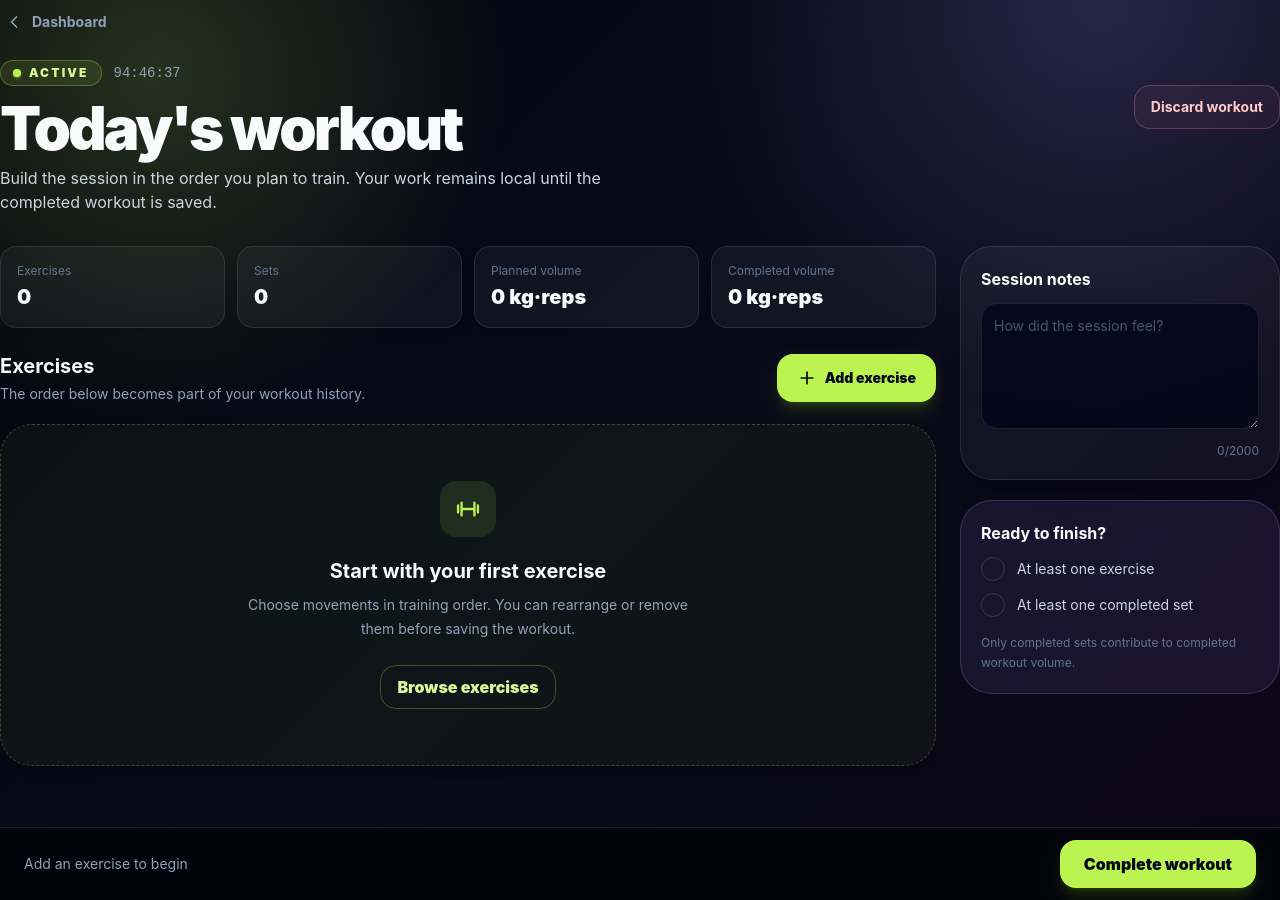
Scenario: ActiveWorkoutScreen › saves the workout and renders the completion summary
This screenshot has width=1280, height=900.
Click the button "Browse exercises" at (468, 687), box [380,665,556,709]
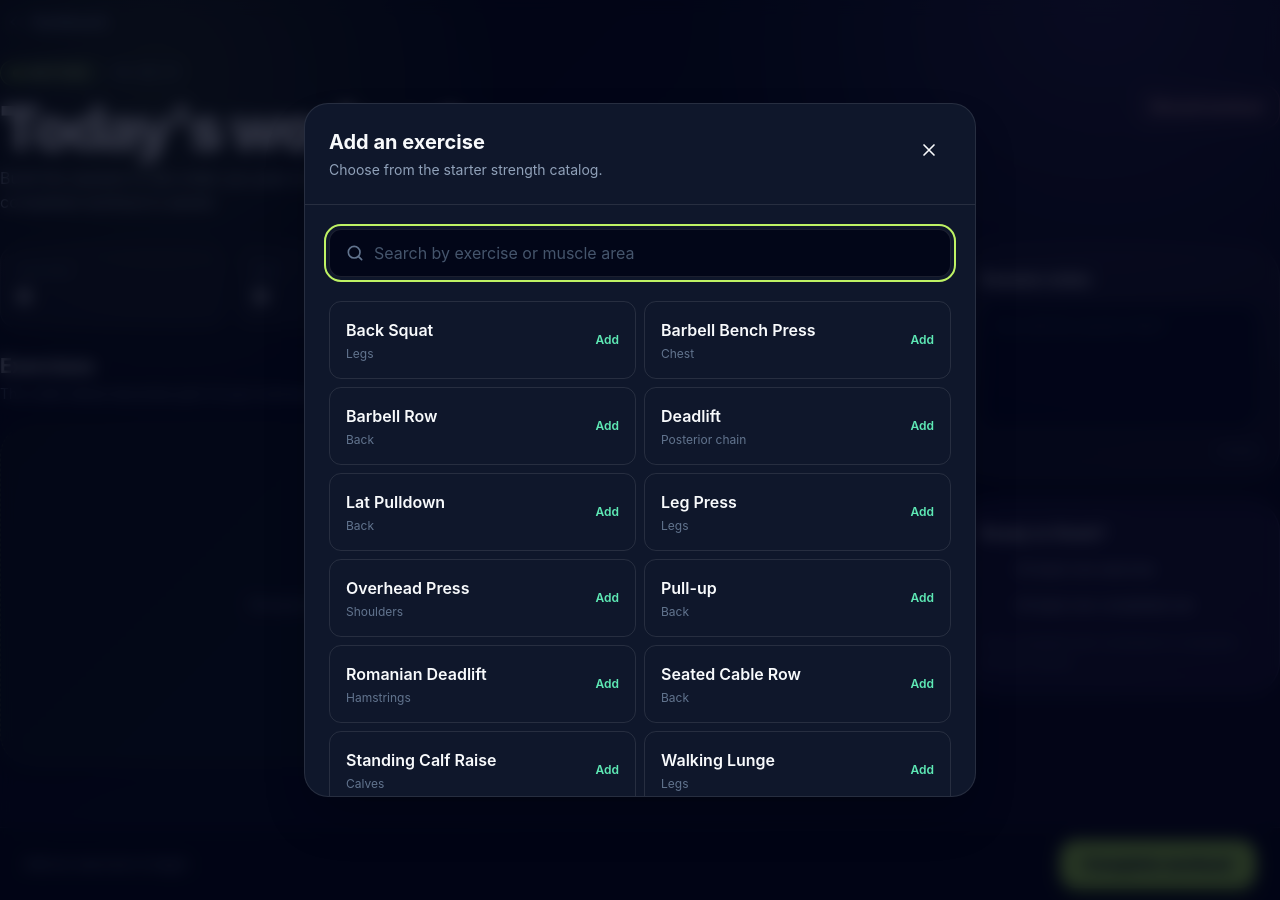
Click the button "Back Squat Legs Add" at (390, 330), box [329,301,636,379]
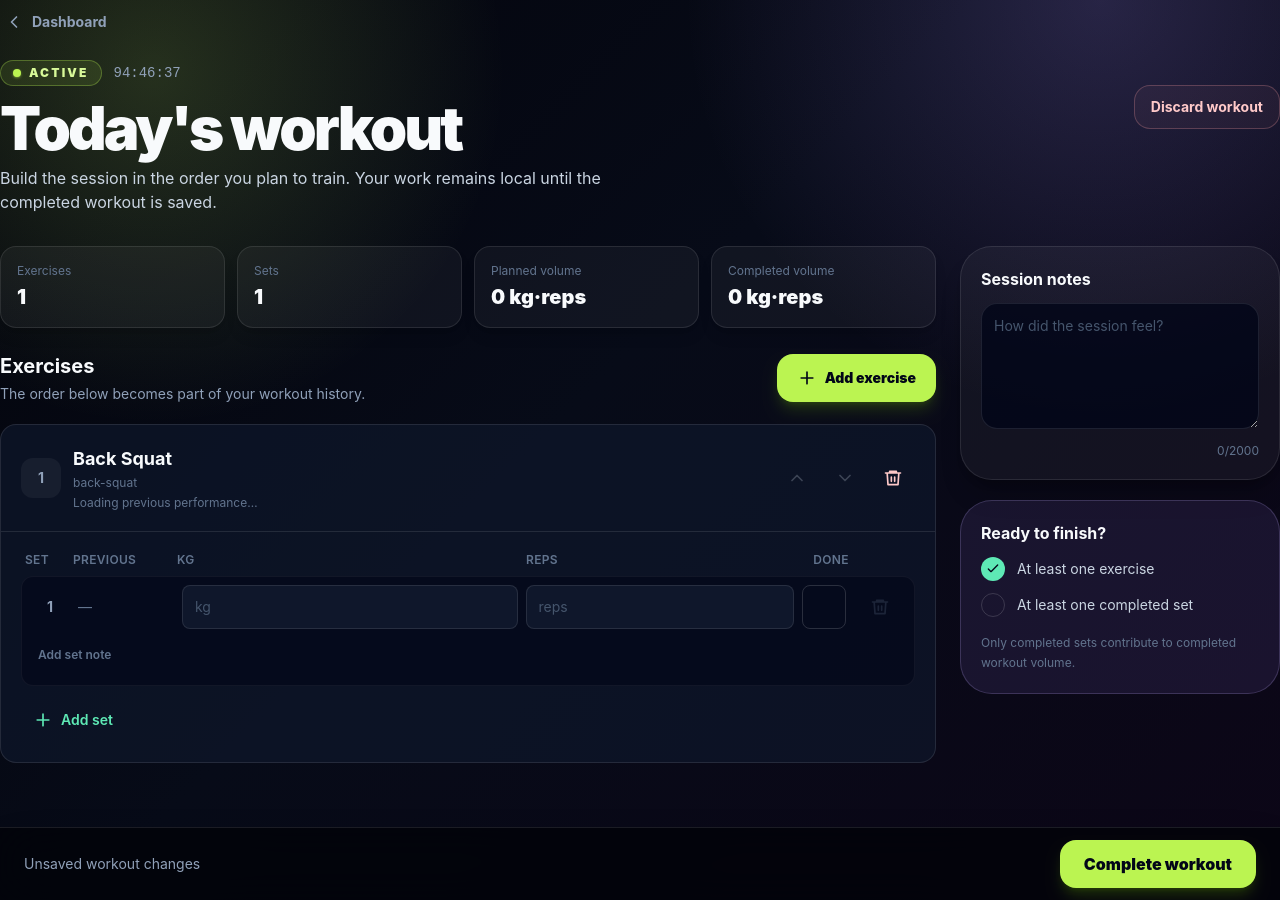
Type "100" into the number field named "back squat set 1 weight in kilograms" at (350, 607), box [182,585,518,629]
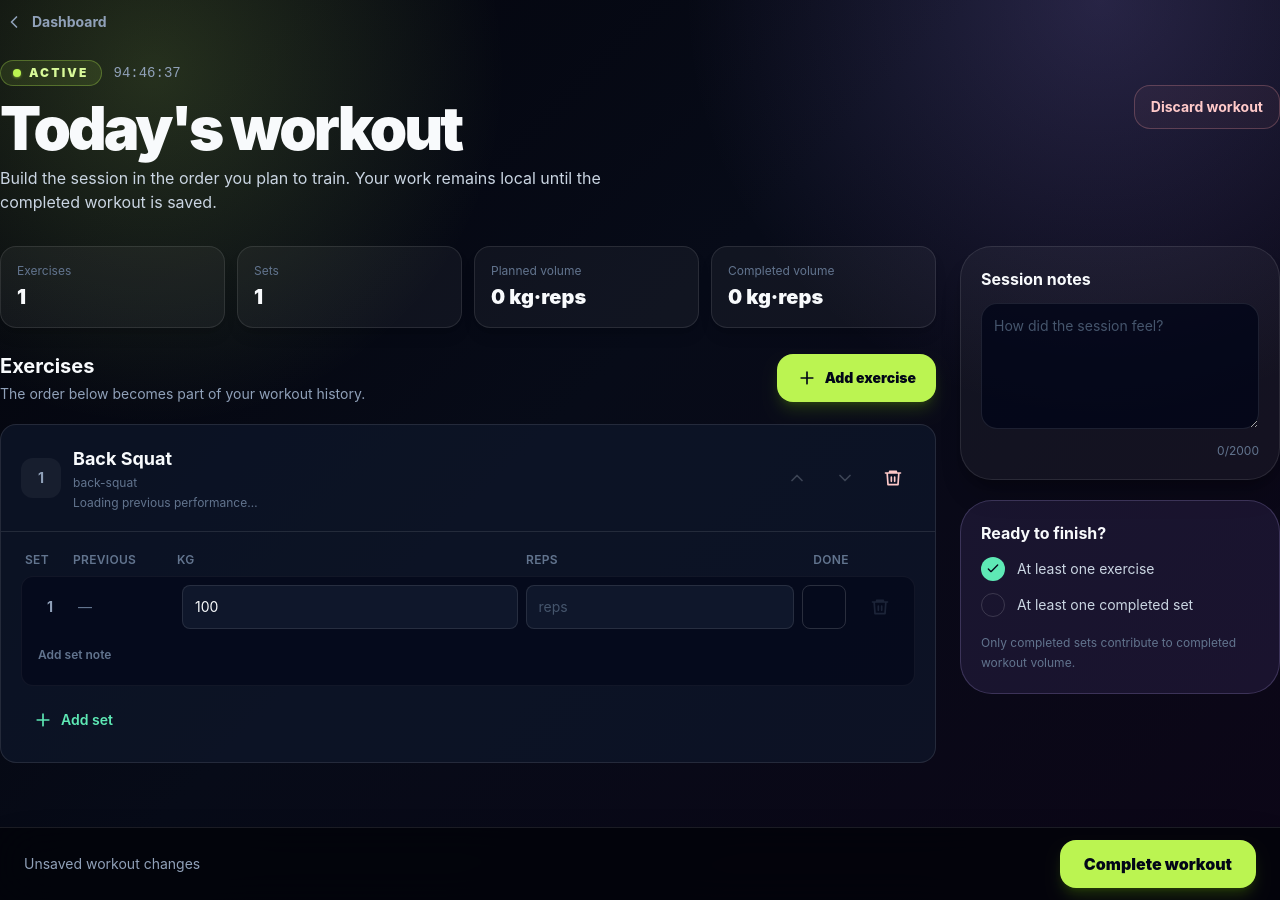
Type "5" into the number field named "back squat set 1 repetitions" at (660, 607), box [526,585,794,629]
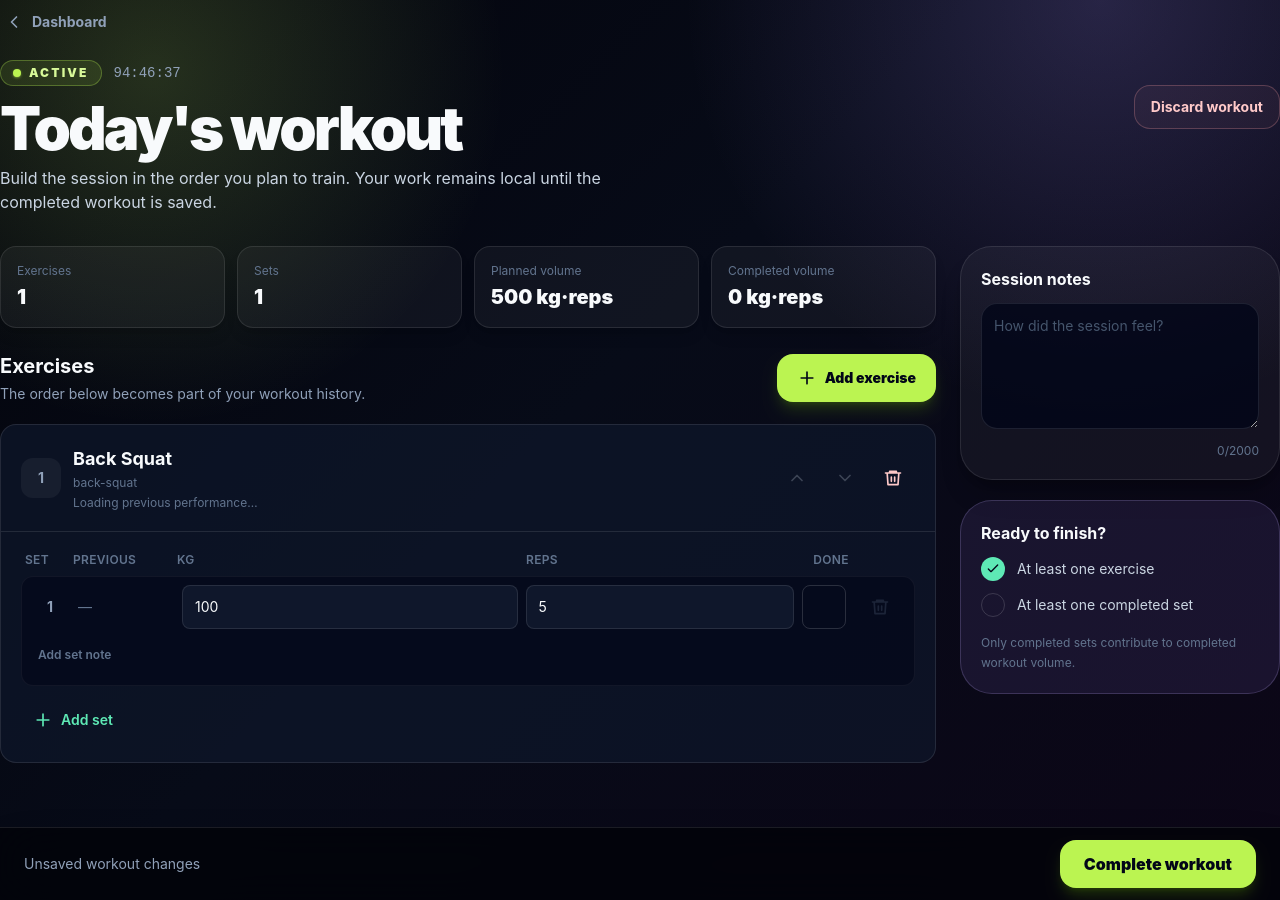
Click the button named "complete back squat set 1" at (824, 607), box [802,585,846,629]
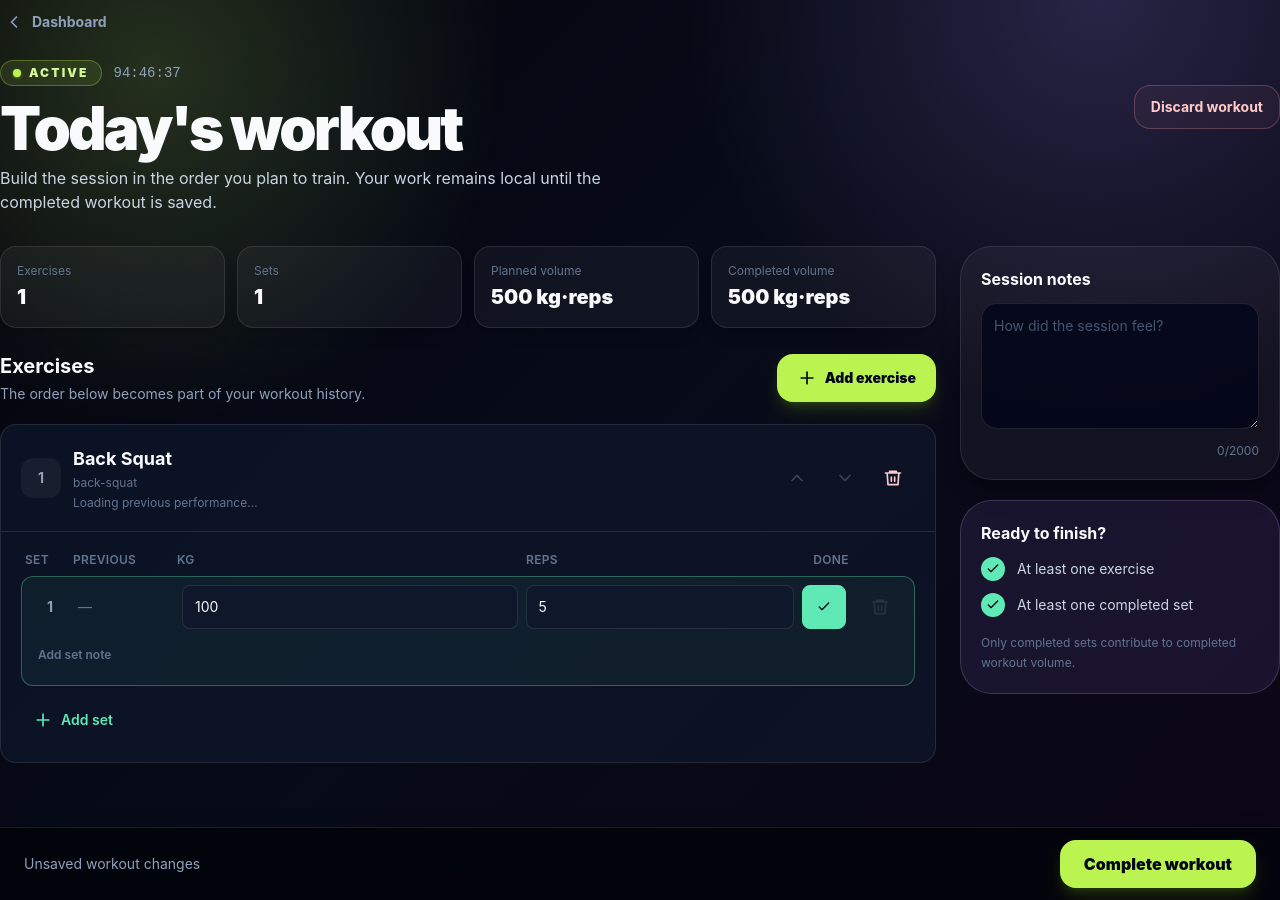
Click the button "Complete workout" at (1158, 864), box [1060,840,1256,888]
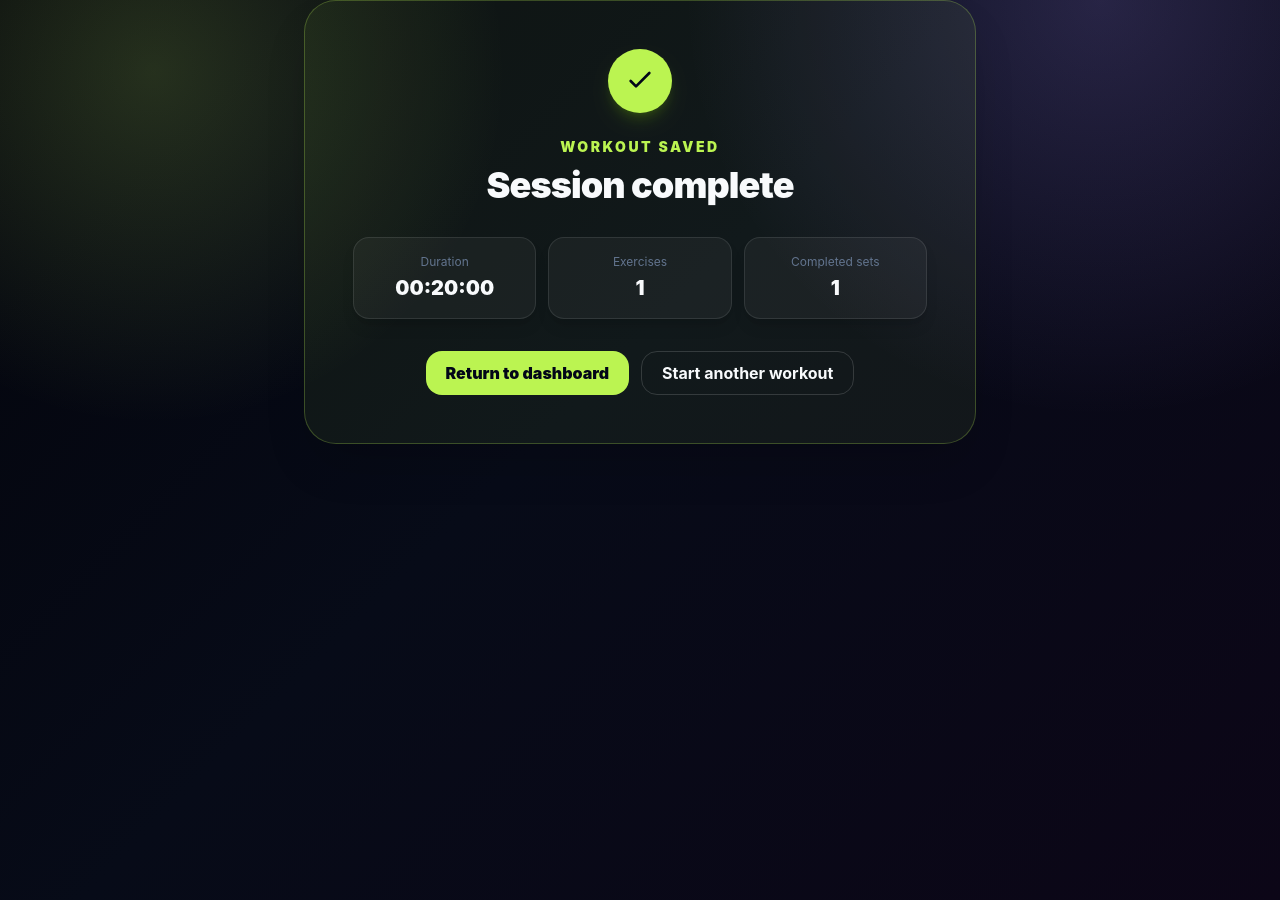
Expected: the heading "Session complete" is shown, [486,163,794,207]
